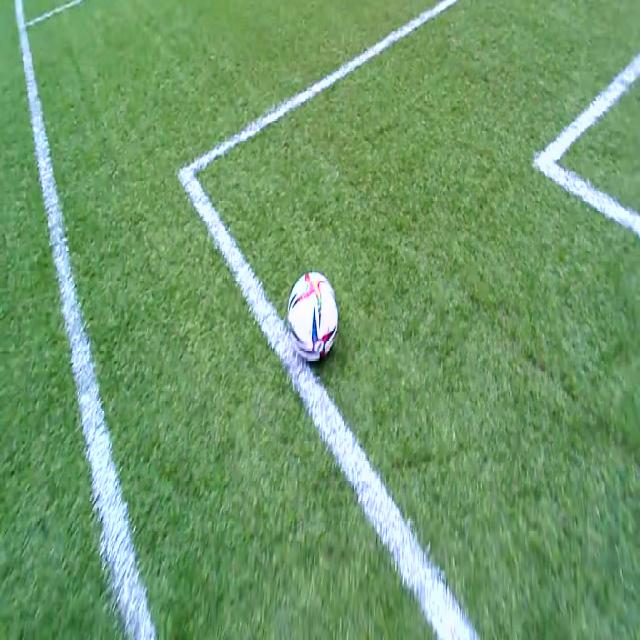ball: (288, 271, 338, 362)
